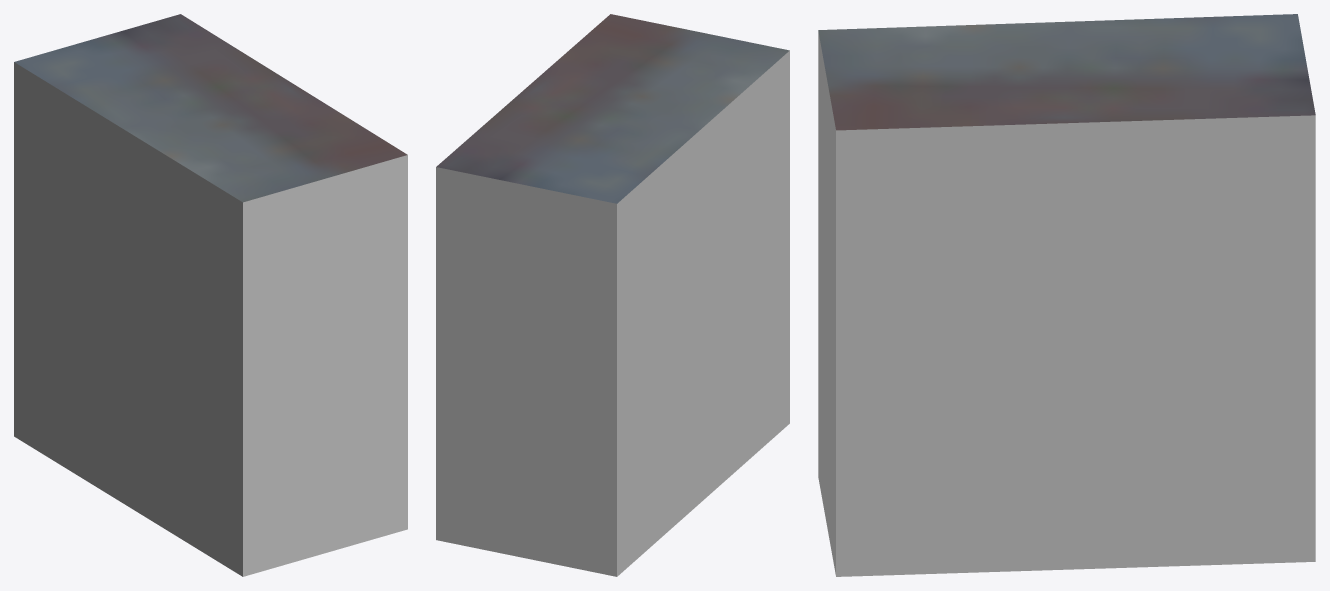
File: DEBW_0010007THYr.gltf
3 views of the same model, side by side, from view 1: azimuth 30°, elevation 25°; view 2: azimuth 150°, elevation 25°; view 3: azimuth 270°, elevation 25° (orthographic). The views are drawn at different scales.
Visible parts, largest first — view 1: Z_UP; view 2: Z_UP; view 3: Z_UP.
Boxes of the visible parts, x1,y1,x2,y2 form: Z_UP: [14, 14, 407, 576]; Z_UP: [436, 14, 789, 576]; Z_UP: [818, 14, 1315, 576].
Bounding box in the file's own units: 2.31 × 4.13 × 4.17.
Materials: 2 (1 with a texture image).
